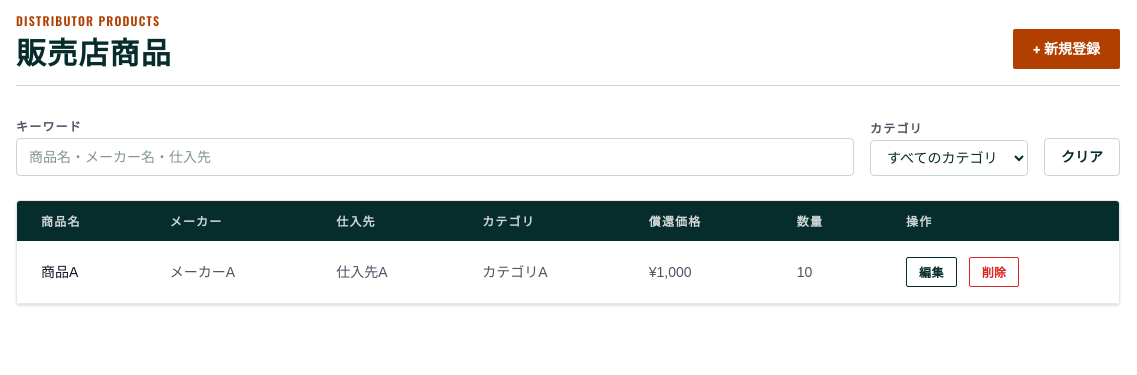
it: DistributorProductsPage › 削除失敗時にエラーバナーを表示する
The width and height of the screenshot is (1137, 375).
Expected: the text "商品A" is shown, [17,241,146,304]
Click the button "削除". click: (994, 272)
box: [969,257,1019,287]
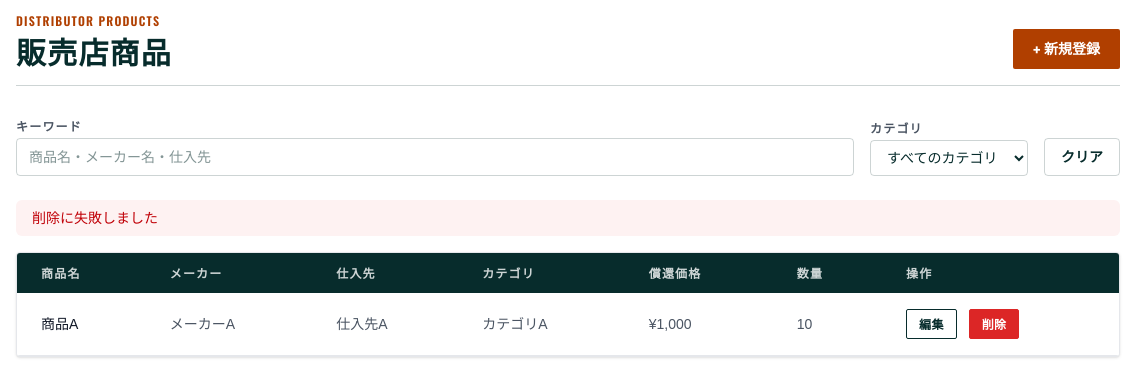
Now the text "削除に失敗しました" is shown, box [16,200,1120,236]
